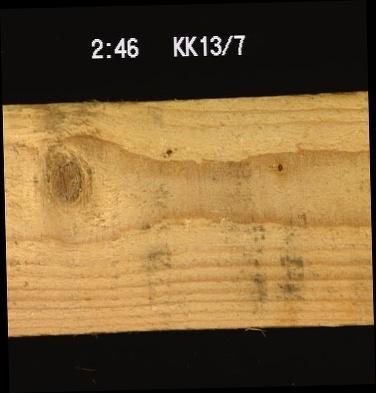dry_knot: (272, 157, 283, 173)
small_knot: (162, 141, 175, 157)
sound_knot: (37, 151, 92, 209)
